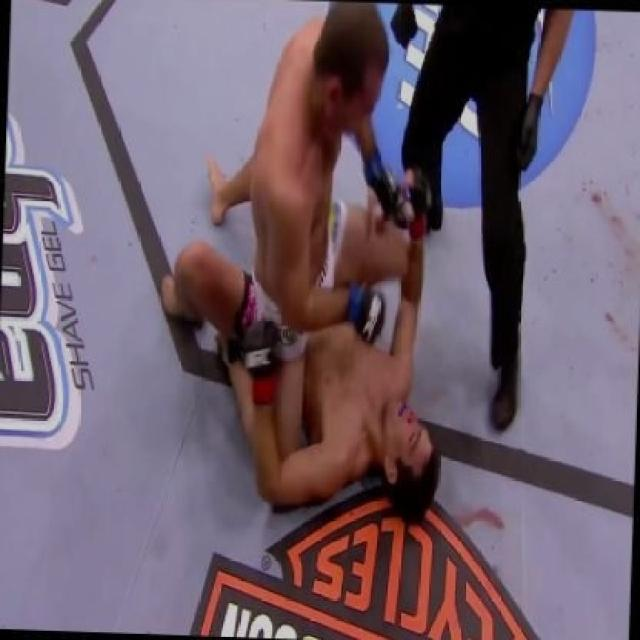fight: (150, 0, 481, 519)
non-fight: (338, 0, 621, 452)
